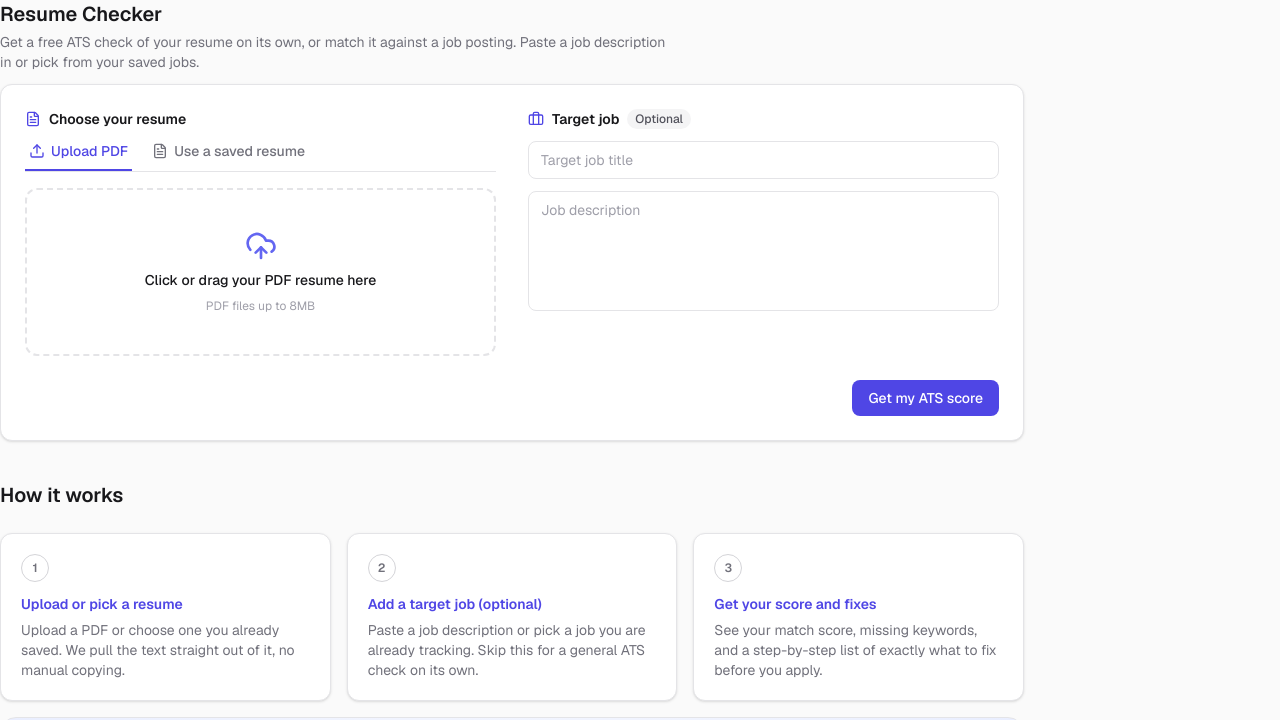
Test: AuditForm › shows an error state instead of results when the request fails
Click the button "Get my ATS score" at (926, 398), box [852,380,999,416]
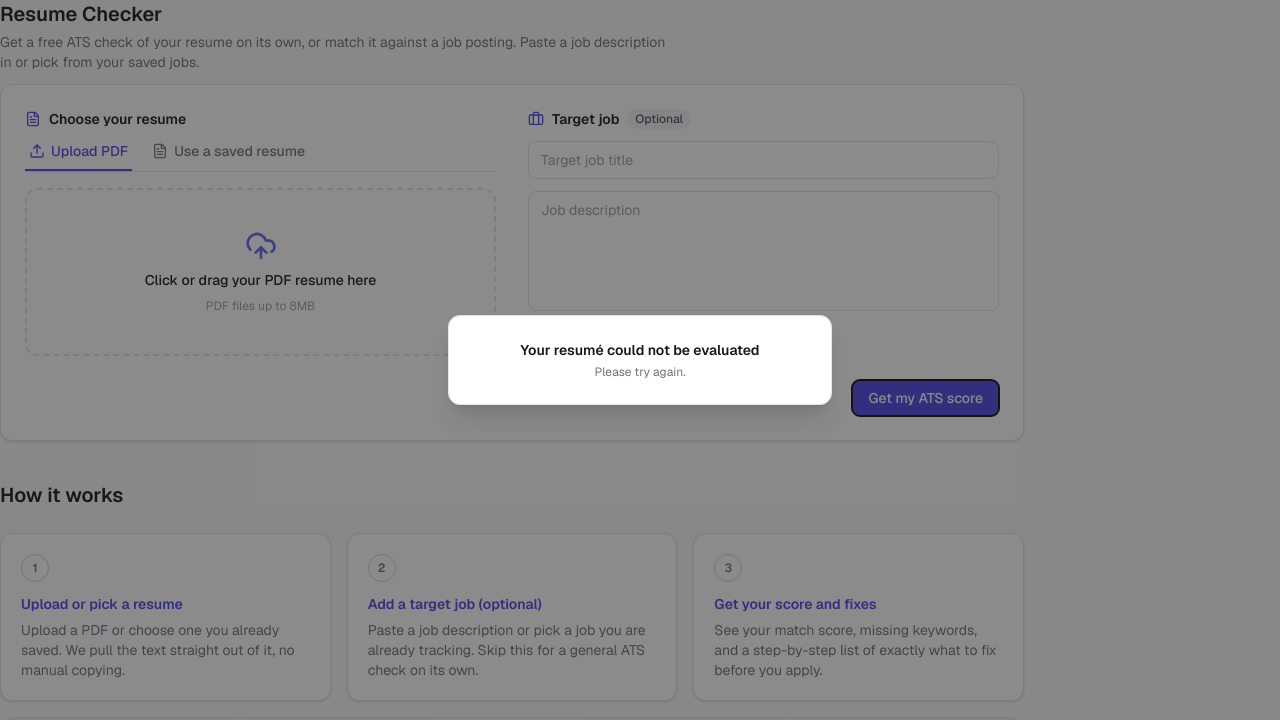
Check: the text "Choose your resume" is shown, box [49,109,186,129]
Check: the text "Your resumé could not be evaluated" is shown, box [520,341,760,359]
